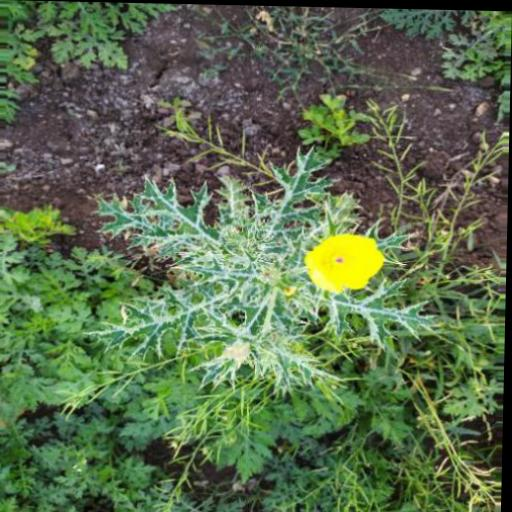weed: (41, 131, 502, 490)
